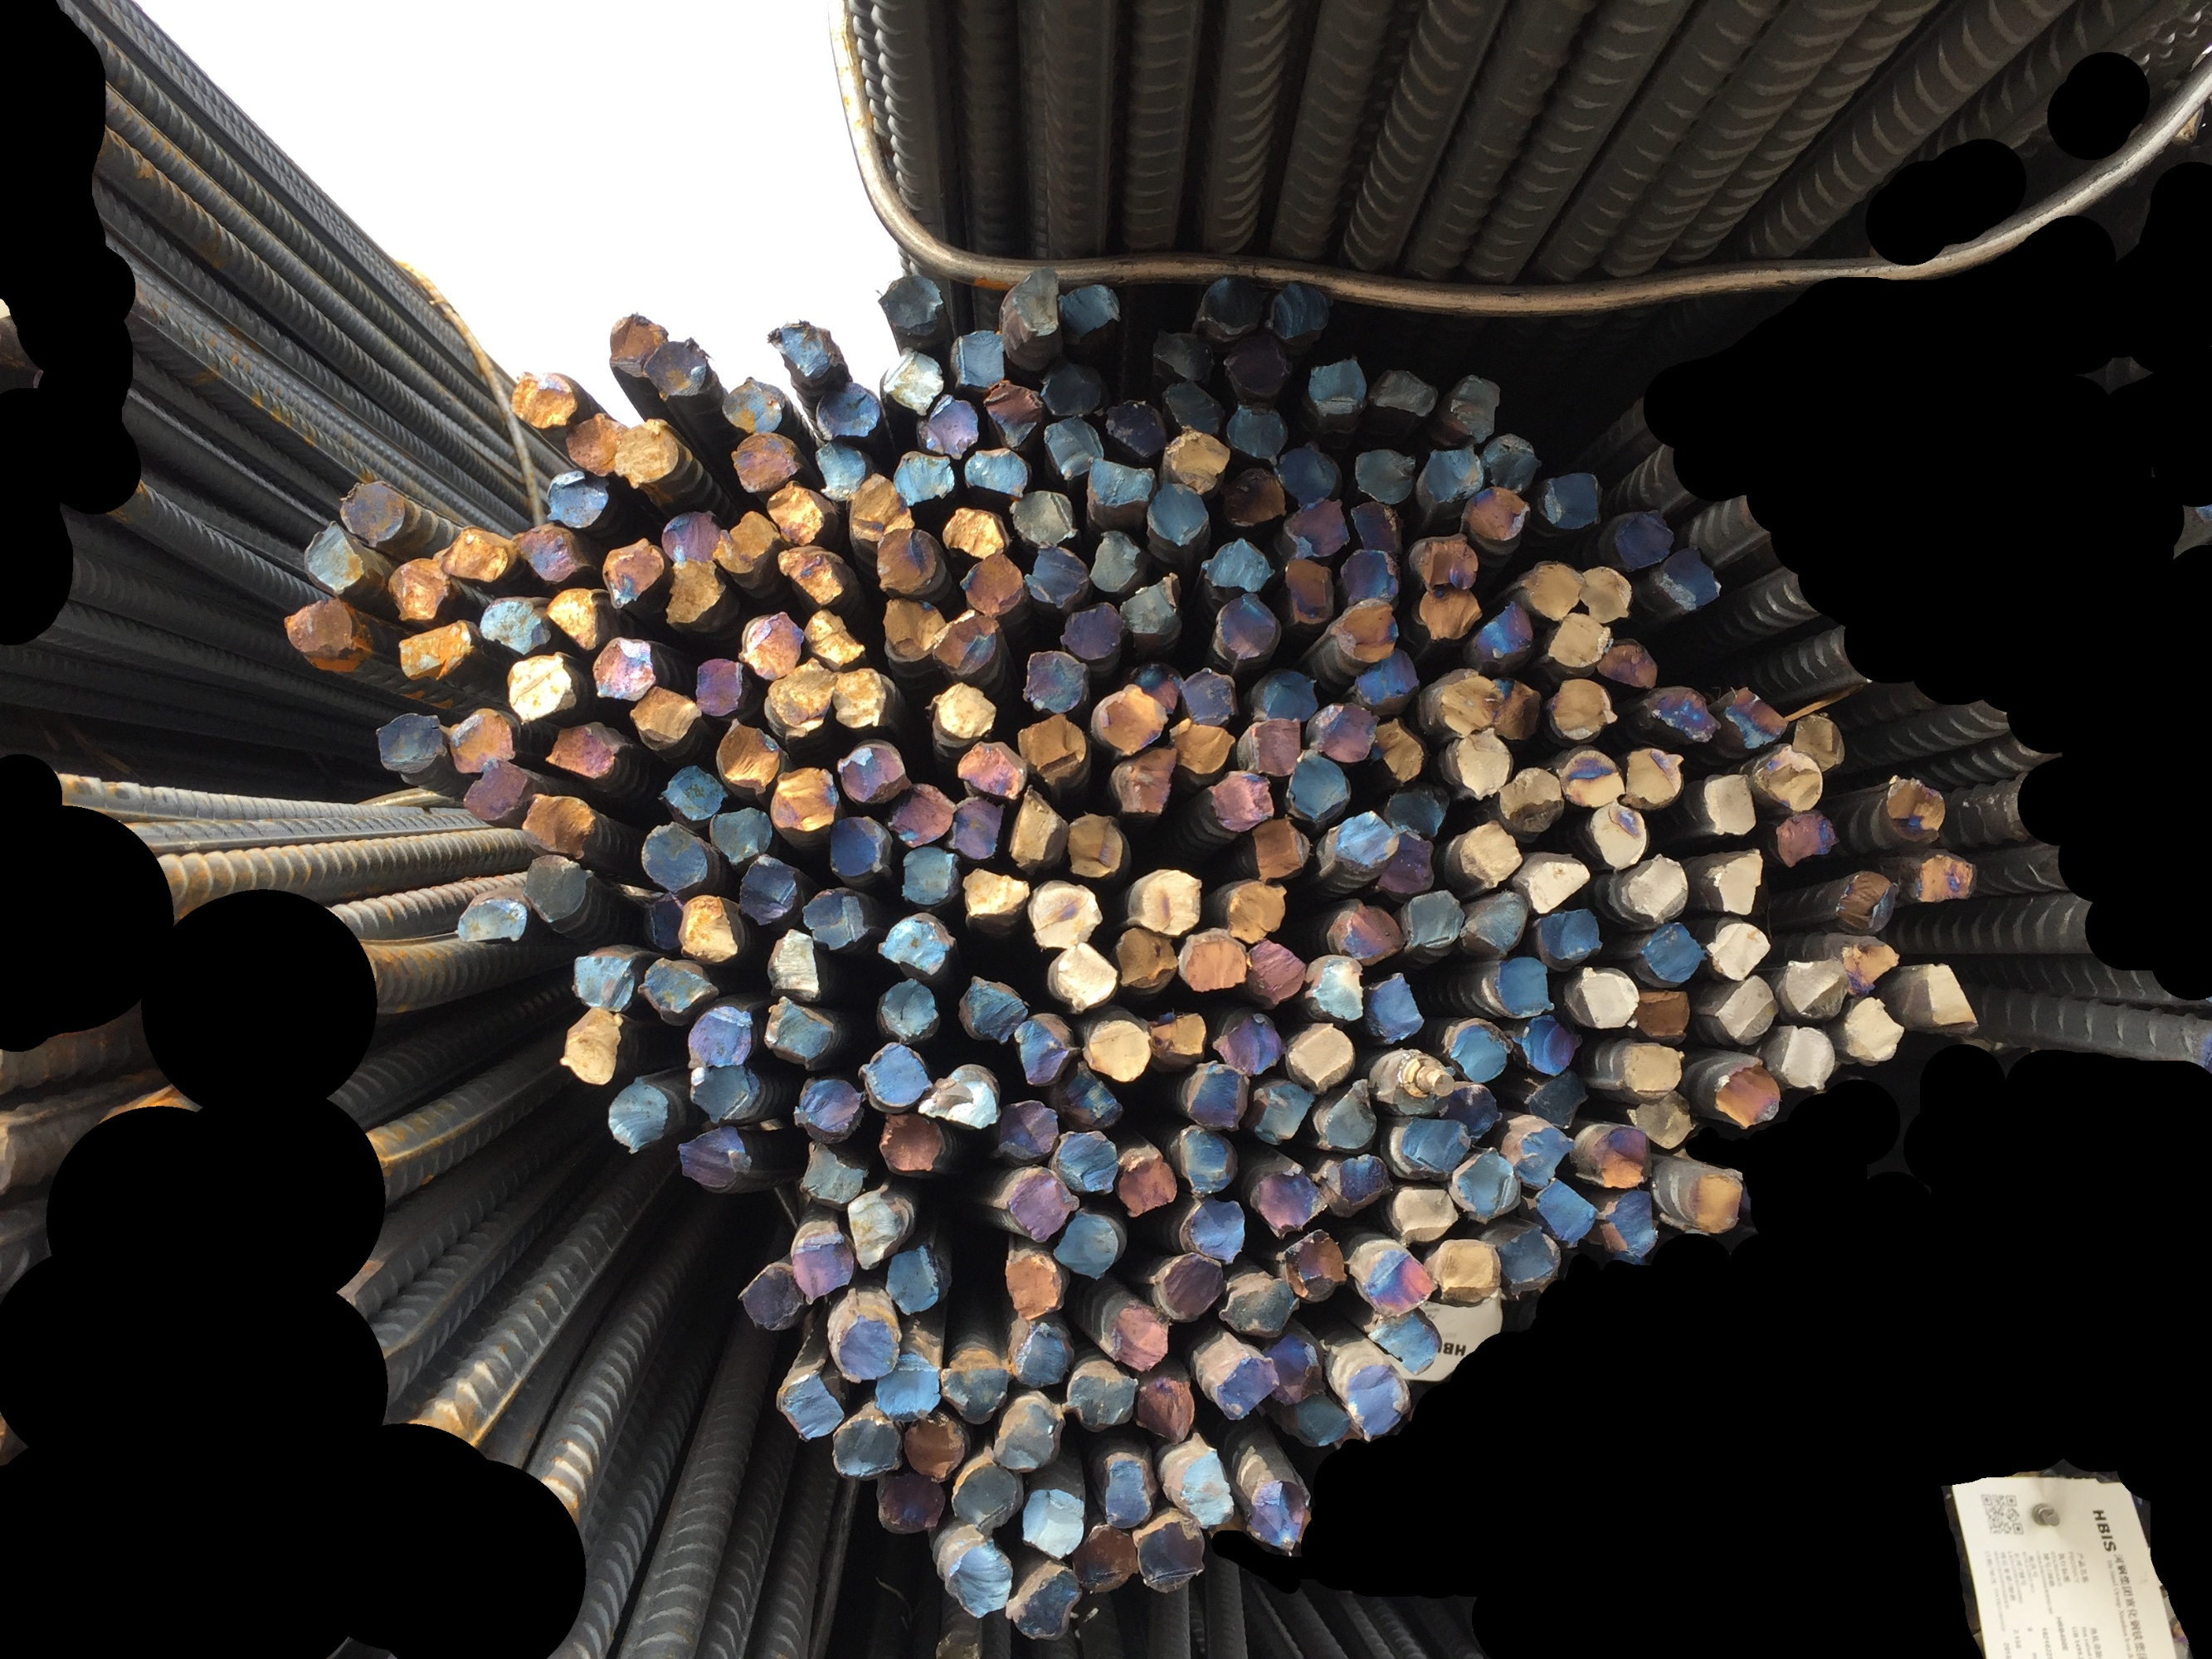rebar: (763, 659, 837, 748), (1248, 1157, 1328, 1236), (638, 951, 720, 1028), (762, 995, 844, 1072), (1002, 1164, 1079, 1244), (281, 598, 366, 669), (1340, 1356, 1410, 1443), (1016, 713, 1093, 791), (943, 1537, 1013, 1622), (877, 908, 959, 979), (1354, 1243, 1436, 1314), (640, 821, 718, 894), (1147, 1251, 1227, 1323), (830, 1302, 899, 1384), (396, 619, 479, 687), (858, 1039, 933, 1114), (1048, 1058, 1124, 1131), (502, 648, 575, 725), (737, 1253, 809, 1331), (952, 1455, 1023, 1534), (992, 1392, 1063, 1471), (605, 1073, 675, 1154), (676, 1126, 757, 1195), (920, 1063, 1002, 1131), (526, 854, 600, 929), (300, 519, 371, 596), (774, 1364, 845, 1441), (884, 1241, 955, 1317), (931, 608, 1008, 680), (847, 1185, 910, 1272), (1009, 1561, 1079, 1640), (1138, 1514, 1206, 1595), (1313, 1152, 1394, 1218), (431, 525, 519, 586), (687, 1066, 777, 1126), (612, 418, 685, 491), (1065, 1359, 1138, 1432), (1028, 878, 1103, 950), (1710, 1054, 1781, 1129), (560, 1009, 629, 1086), (1278, 1227, 1347, 1304), (1377, 1049, 1454, 1119), (664, 558, 732, 636), (941, 1347, 1009, 1425), (1455, 1147, 1523, 1225), (1133, 1364, 1199, 1445), (791, 1222, 854, 1305), (1095, 1446, 1157, 1530), (1173, 1445, 1236, 1528), (629, 685, 702, 756), (1208, 1349, 1281, 1420), (1433, 1237, 1504, 1310), (1877, 774, 1949, 847), (1210, 1007, 1285, 1077), (1494, 1222, 1562, 1298), (1680, 1162, 1748, 1239), (1914, 960, 1982, 1037), (715, 720, 781, 798), (546, 720, 626, 784), (1389, 1115, 1469, 1180), (777, 545, 859, 608), (1639, 681, 1720, 744), (687, 1000, 758, 1072), (793, 1072, 865, 1143), (1131, 864, 1203, 936), (338, 479, 411, 549), (1009, 786, 1070, 870), (1358, 1312, 1442, 1373), (1182, 1058, 1252, 1131), (713, 511, 781, 586), (763, 927, 831, 1002), (800, 884, 875, 951), (1072, 1521, 1140, 1596), (521, 793, 598, 859), (837, 741, 913, 807), (769, 321, 847, 385), (1220, 1274, 1299, 1338), (1048, 943, 1119, 1012), (959, 974, 1030, 1044), (1055, 1209, 1126, 1279), (1285, 1019, 1354, 1091), (1333, 896, 1405, 965), (770, 765, 838, 838), (1325, 809, 1398, 877), (1752, 744, 1825, 812), (373, 711, 448, 777), (875, 1351, 941, 1425), (873, 1471, 948, 1537), (1103, 1298, 1170, 1373), (765, 481, 842, 545), (1014, 1011, 1079, 1087), (514, 523, 593, 586), (1245, 1473, 1307, 1551), (448, 704, 518, 774), (1170, 1126, 1239, 1195), (737, 610, 805, 681), (847, 474, 915, 545), (1084, 1011, 1152, 1082), (1180, 1194, 1248, 1265), (1442, 1014, 1513, 1082), (1110, 746, 1178, 817), (1098, 683, 1166, 755), (1215, 592, 1283, 664), (1621, 854, 1689, 925), (903, 1410, 969, 1483), (1025, 540, 1091, 613), (1314, 1077, 1381, 1150), (1285, 749, 1351, 823), (643, 340, 713, 408), (800, 1140, 868, 1209), (831, 1415, 901, 1483), (887, 779, 957, 847), (912, 392, 980, 462), (875, 528, 945, 596), (1454, 819, 1522, 889), (1710, 978, 1780, 1046), (1020, 1486, 1086, 1558), (879, 1112, 950, 1178), (1567, 964, 1639, 1030), (603, 537, 668, 610), (880, 345, 945, 418), (1600, 1190, 1663, 1265), (509, 369, 586, 430), (608, 312, 669, 389), (739, 852, 800, 929), (678, 896, 746, 964), (572, 945, 640, 1012), (1265, 277, 1333, 345), (830, 666, 899, 732), (877, 274, 947, 340), (882, 598, 948, 667), (464, 758, 535, 823), (1002, 1248, 1067, 1319), (1020, 648, 1091, 713), (1262, 1331, 1327, 1403), (1449, 725, 1513, 796), (1532, 1176, 1597, 1248), (1633, 920, 1705, 985), (1067, 809, 1130, 882), (1117, 1143, 1178, 1218), (1532, 906, 1607, 967), (1004, 267, 1062, 345), (383, 556, 450, 624), (1053, 1129, 1119, 1197), (1222, 878, 1288, 946), (1548, 674, 1614, 742), (1780, 955, 1848, 1021), (1431, 666, 1501, 730), (1839, 995, 1903, 1065), (1009, 1316, 1072, 1387), (1224, 335, 1295, 397), (1501, 763, 1564, 835), (1555, 744, 1626, 807), (727, 432, 800, 493), (1445, 369, 1504, 444), (593, 636, 659, 702), (879, 976, 945, 1042), (1374, 829, 1440, 896), (565, 411, 629, 479), (960, 552, 1028, 617), (995, 1098, 1060, 1166), (1464, 890, 1529, 958), (1835, 870, 1903, 934), (544, 467, 614, 530), (1389, 1183, 1459, 1246), (1252, 1077, 1314, 1147), (1147, 483, 1210, 552), (1410, 528, 1480, 591), (1041, 356, 1112, 416), (1123, 572, 1184, 643), (1368, 361, 1440, 422), (1625, 1089, 1696, 1150), (1776, 1025, 1837, 1096), (479, 596, 553, 655), (1199, 537, 1276, 592), (1440, 1080, 1504, 1147), (1180, 929, 1246, 993), (1163, 427, 1229, 491), (1724, 683, 1788, 749), (1510, 1124, 1574, 1190), (1705, 917, 1771, 981), (659, 763, 727, 826), (830, 814, 892, 882), (1208, 769, 1276, 831), (1586, 802, 1649, 870), (1522, 850, 1590, 913), (1520, 1068, 1588, 1131), (1659, 544, 1720, 613), (1008, 490, 1079, 549), (927, 681, 999, 741), (955, 741, 1027, 800), (1367, 972, 1426, 1044), (1830, 934, 1902, 993), (985, 376, 1042, 450), (1058, 282, 1123, 347), (1333, 598, 1400, 660), (1541, 467, 1604, 533), (1609, 507, 1675, 570), (1590, 1124, 1652, 1190), (722, 371, 790, 432), (1058, 599, 1126, 660), (1309, 352, 1370, 420), (1248, 666, 1318, 725), (1706, 847, 1766, 917), (1245, 939, 1307, 1004), (1276, 441, 1340, 504), (1421, 446, 1483, 511), (1490, 955, 1555, 1018), (1117, 927, 1178, 993), (1170, 716, 1236, 777), (814, 382, 882, 441), (1306, 953, 1365, 1021), (1407, 889, 1466, 957), (960, 866, 1030, 924), (1088, 455, 1157, 512), (1307, 704, 1377, 762), (1700, 770, 1757, 840), (1374, 713, 1429, 784), (1910, 850, 1982, 906), (711, 803, 774, 866), (1522, 556, 1584, 619), (1041, 416, 1105, 477), (1252, 817, 1313, 882), (1354, 647, 1419, 708), (1618, 1039, 1682, 1100), (804, 610, 870, 669), (1518, 1016, 1584, 1075), (1281, 498, 1349, 556), (1626, 744, 1684, 812), (1771, 810, 1839, 868), (547, 587, 608, 650), (457, 890, 530, 943), (1105, 396, 1166, 458), (1225, 403, 1288, 464), (898, 847, 962, 906), (1199, 277, 1264, 336), (1220, 469, 1285, 528), (1415, 584, 1482, 641), (948, 795, 1004, 863), (1462, 484, 1530, 540), (1292, 1389, 1353, 1450), (1548, 612, 1611, 671), (892, 450, 957, 507), (945, 504, 1011, 559), (1337, 547, 1403, 603), (1353, 448, 1419, 504), (1382, 782, 1452, 835), (1283, 556, 1335, 626), (661, 507, 722, 566), (1149, 1006, 1208, 1066), (1180, 666, 1241, 725), (1241, 716, 1302, 775), (1480, 432, 1541, 491), (1089, 528, 1147, 591), (1163, 380, 1225, 437), (1792, 711, 1849, 774), (1489, 674, 1541, 742), (964, 448, 1034, 498), (948, 328, 1006, 389), (1121, 659, 1182, 716), (1598, 636, 1659, 694), (1150, 328, 1215, 382), (1480, 598, 1534, 662), (1579, 563, 1633, 626), (812, 441, 866, 502), (694, 657, 746, 718), (1633, 986, 1691, 1040), (640, 892, 685, 957), (1351, 500, 1407, 551)
